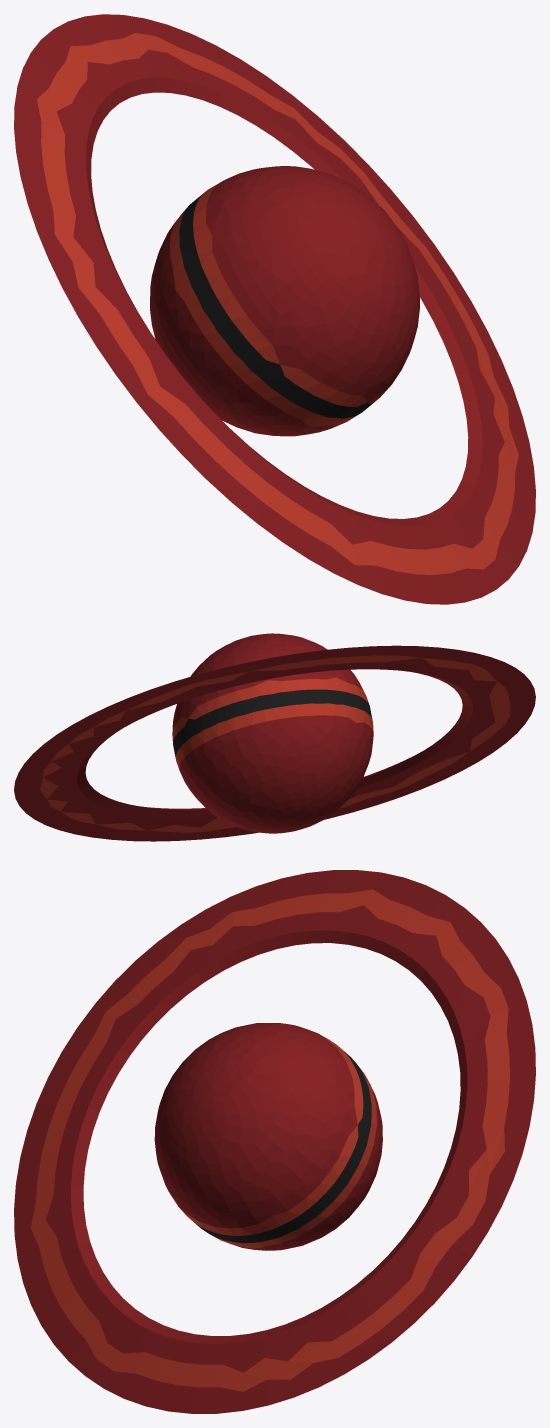
The model's file is planet-10.glb.
The picture shows the model from 3 angles, top to bottom: view 1: azimuth 30°, elevation 25°; view 2: azimuth 150°, elevation 25°; view 3: azimuth 270°, elevation 25°; orthographic projection. The views are drawn at different scales.
Parts seen in each view (by area): view 1: Planet_10; view 2: Planet_10; view 3: Planet_10.
Boxes of the visible parts, left/top/right/bottom form: Planet_10: left=14, top=14, right=535, bottom=604; Planet_10: left=14, top=633, right=535, bottom=841; Planet_10: left=14, top=870, right=535, bottom=1413.
Size of the model in its own units: 5.74 by 4.68 by 5.74.
